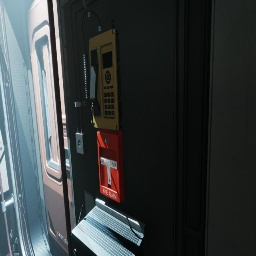EmergencyPhone ,: (82, 10, 122, 130)
FireAlarm ,: (97, 128, 124, 203)
SafetySwitchPanel ,: (0, 118, 9, 195)
